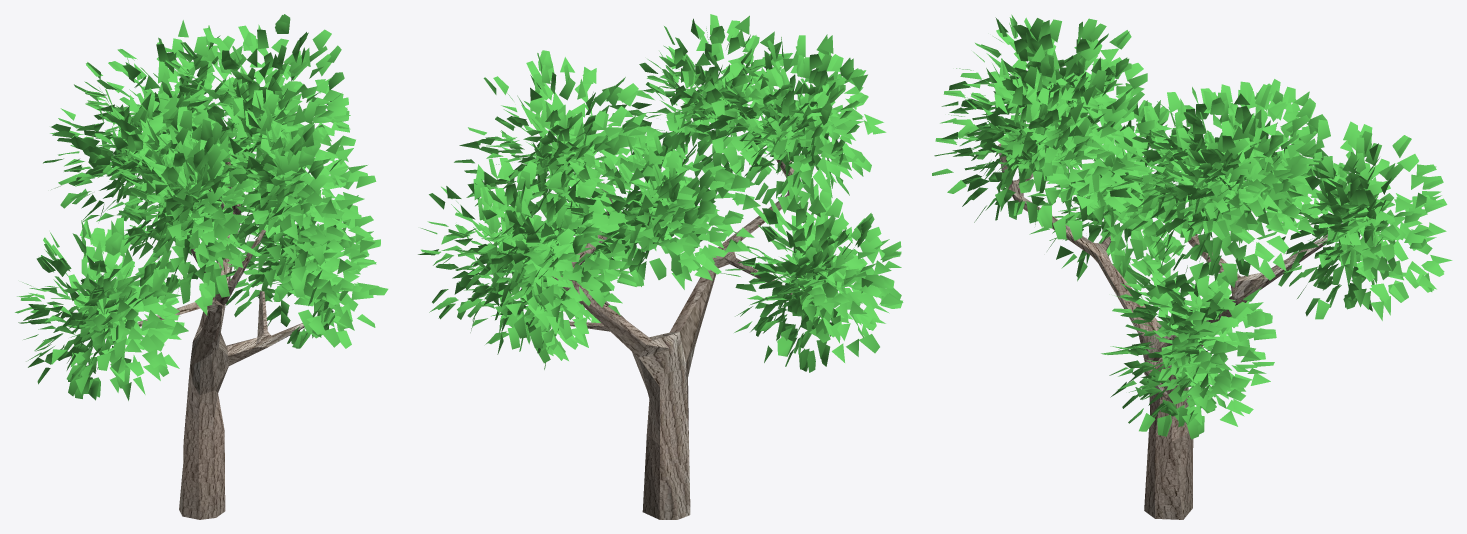
File: pohon_unggulan.glb
3 views of the same model, side by side, from view 1: azimuth 30°, elevation 25°; view 2: azimuth 150°, elevation 25°; view 3: azimuth 270°, elevation 25° (orthographic). The views are drawn at different scales.
Parts seen in each view (by area): view 1: tree7; view 2: tree7; view 3: tree7.
Boxes of the visible parts, left/top/right/bottom form: tree7: left=15, top=14, right=388, bottom=519; tree7: left=418, top=14, right=903, bottom=519; tree7: left=932, top=14, right=1452, bottom=519.
Bounding box in the file's own units: 5.4 × 5.96 × 6.02.
2 materials, 1 textured.
